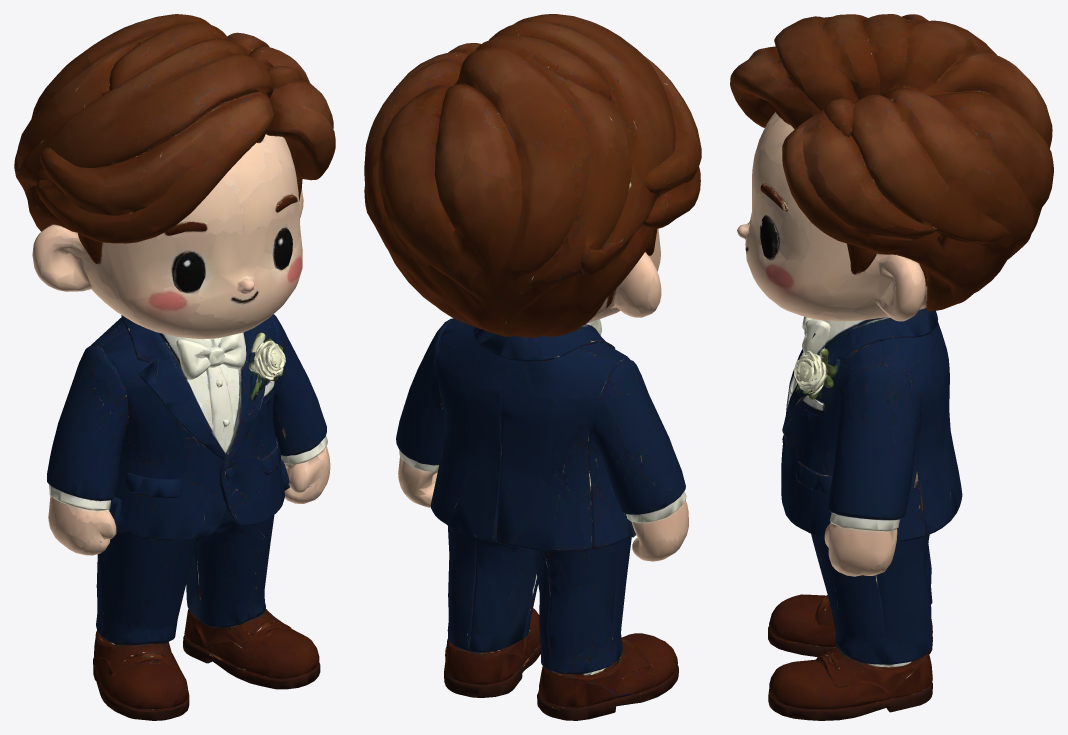
The model's file is upm_mv3pqxue74q.glb.
The picture shows the model from 3 angles, left to right: view 1: azimuth 30°, elevation 25°; view 2: azimuth 150°, elevation 25°; view 3: azimuth 270°, elevation 25°; orthographic projection. The views are drawn at different scales.
Size of the model in its own units: 0.8661 by 1.9 by 0.8588.
Materials: 1 (1 with a texture image).
